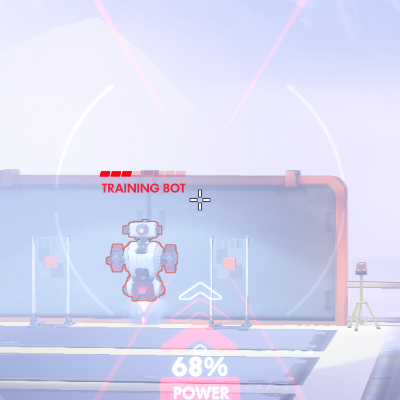hpbar: (99, 170, 187, 178)
